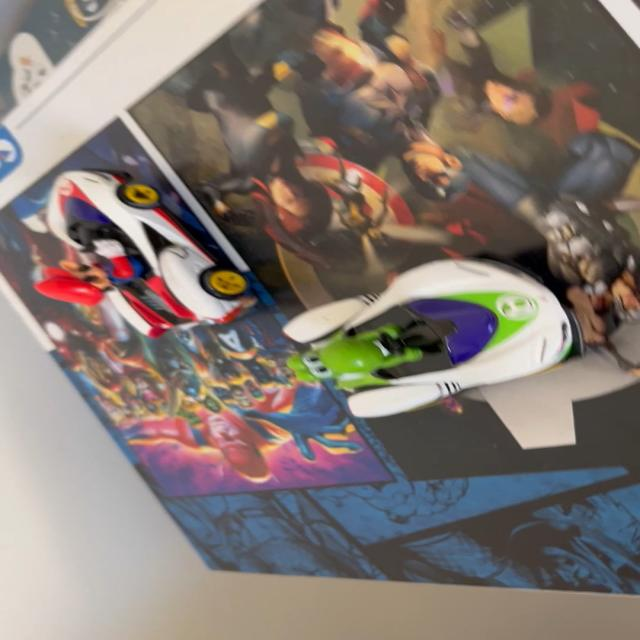mario: (26, 161, 268, 352)
yoshi: (266, 255, 596, 437)
